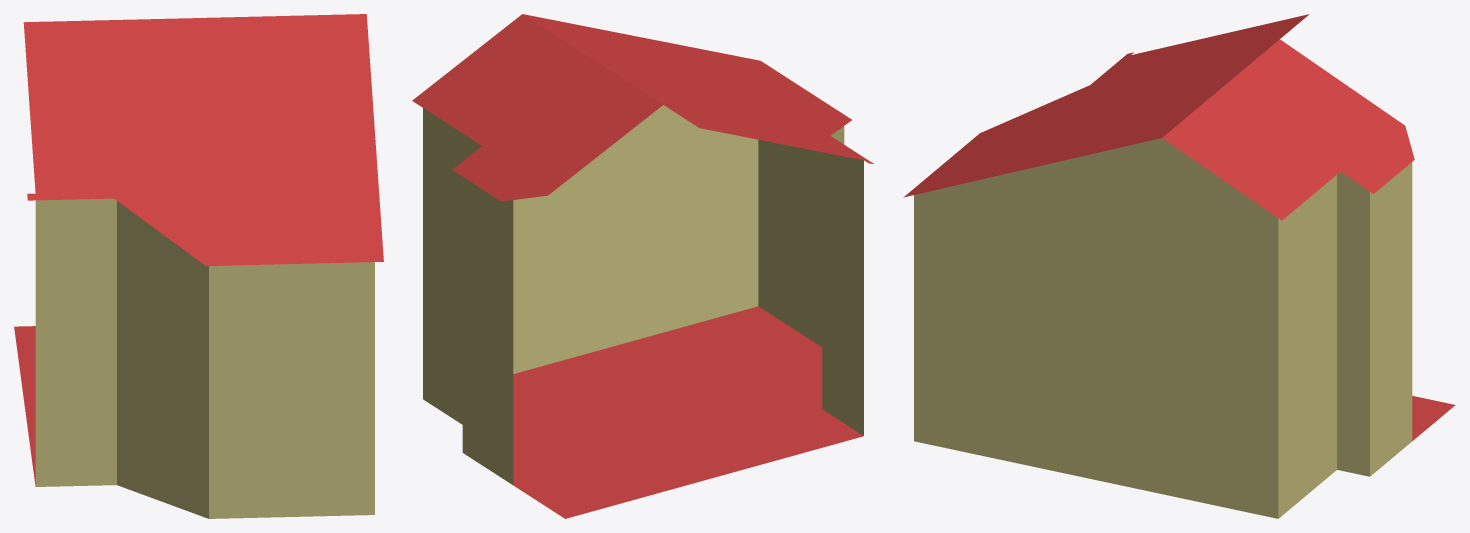
3 views of the same model, side by side, from view 1: azimuth 30°, elevation 25°; view 2: azimuth 150°, elevation 25°; view 3: azimuth 270°, elevation 25° (orthographic). The views are drawn at different scales.
Size of the model in its own units: 14.29 by 17.36 by 12.48.
